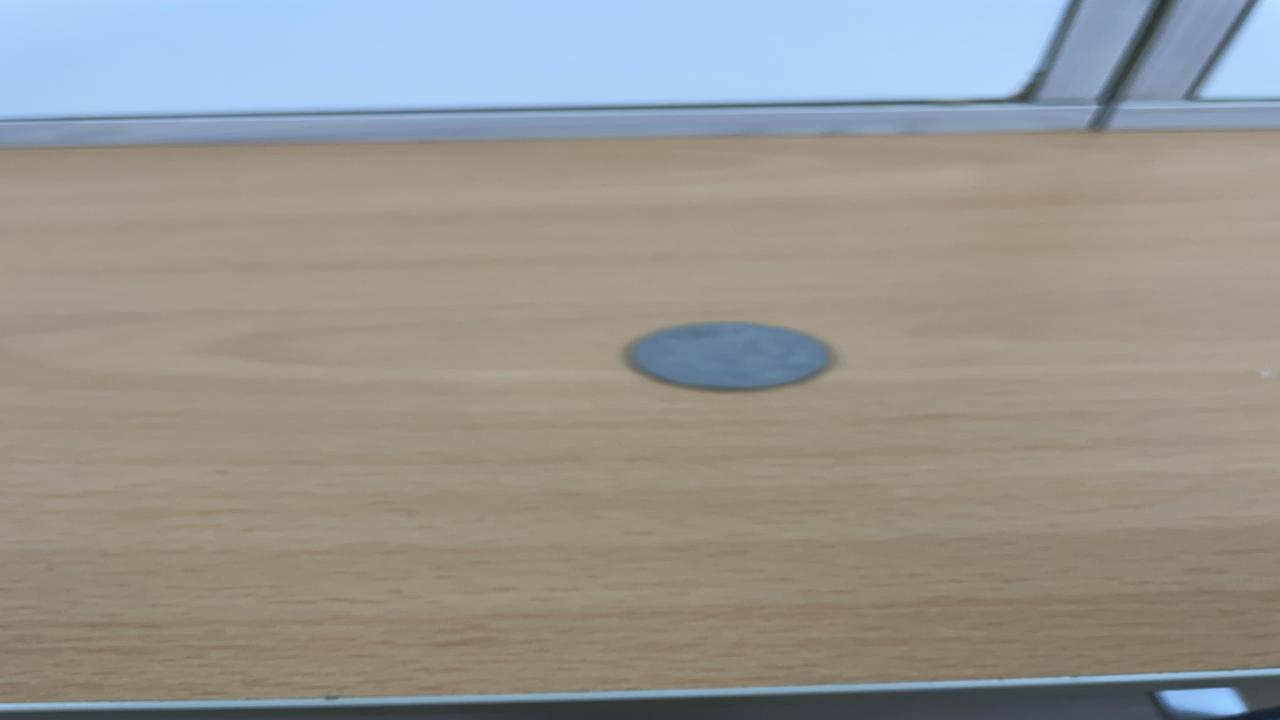coin: (624, 318, 842, 392)
